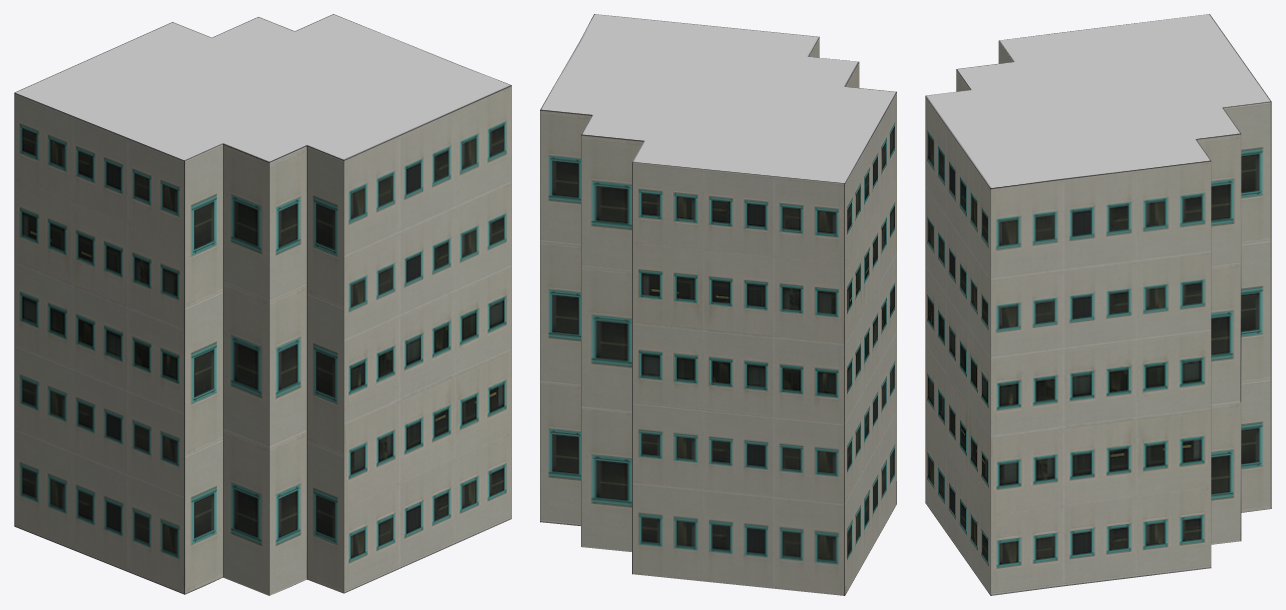
The model's file is building_001_1.fbx.
The picture shows the model from 3 angles, left to right: view 1: azimuth 30°, elevation 25°; view 2: azimuth 150°, elevation 25°; view 3: azimuth 270°, elevation 25°; orthographic projection. The views are drawn at different scales.
Visible parts, largest first — view 1: Areas:building.001; view 2: Areas:building.001; view 3: Areas:building.001.
Part boxes in pixels (x1=…): Areas:building.001: x1=14, y1=14, x2=511, y2=595; Areas:building.001: x1=540, y1=14, x2=896, y2=595; Areas:building.001: x1=925, y1=14, x2=1271, y2=595.
Size of the model in its own units: 2030 by 2213 by 1704.
